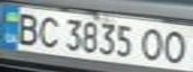3: (60, 16, 84, 52), (97, 20, 118, 56)
5: (115, 21, 139, 60)
8: (78, 18, 100, 55)
B: (9, 10, 42, 46)
C: (33, 14, 63, 50)
O: (160, 28, 193, 65), (136, 26, 169, 62)
